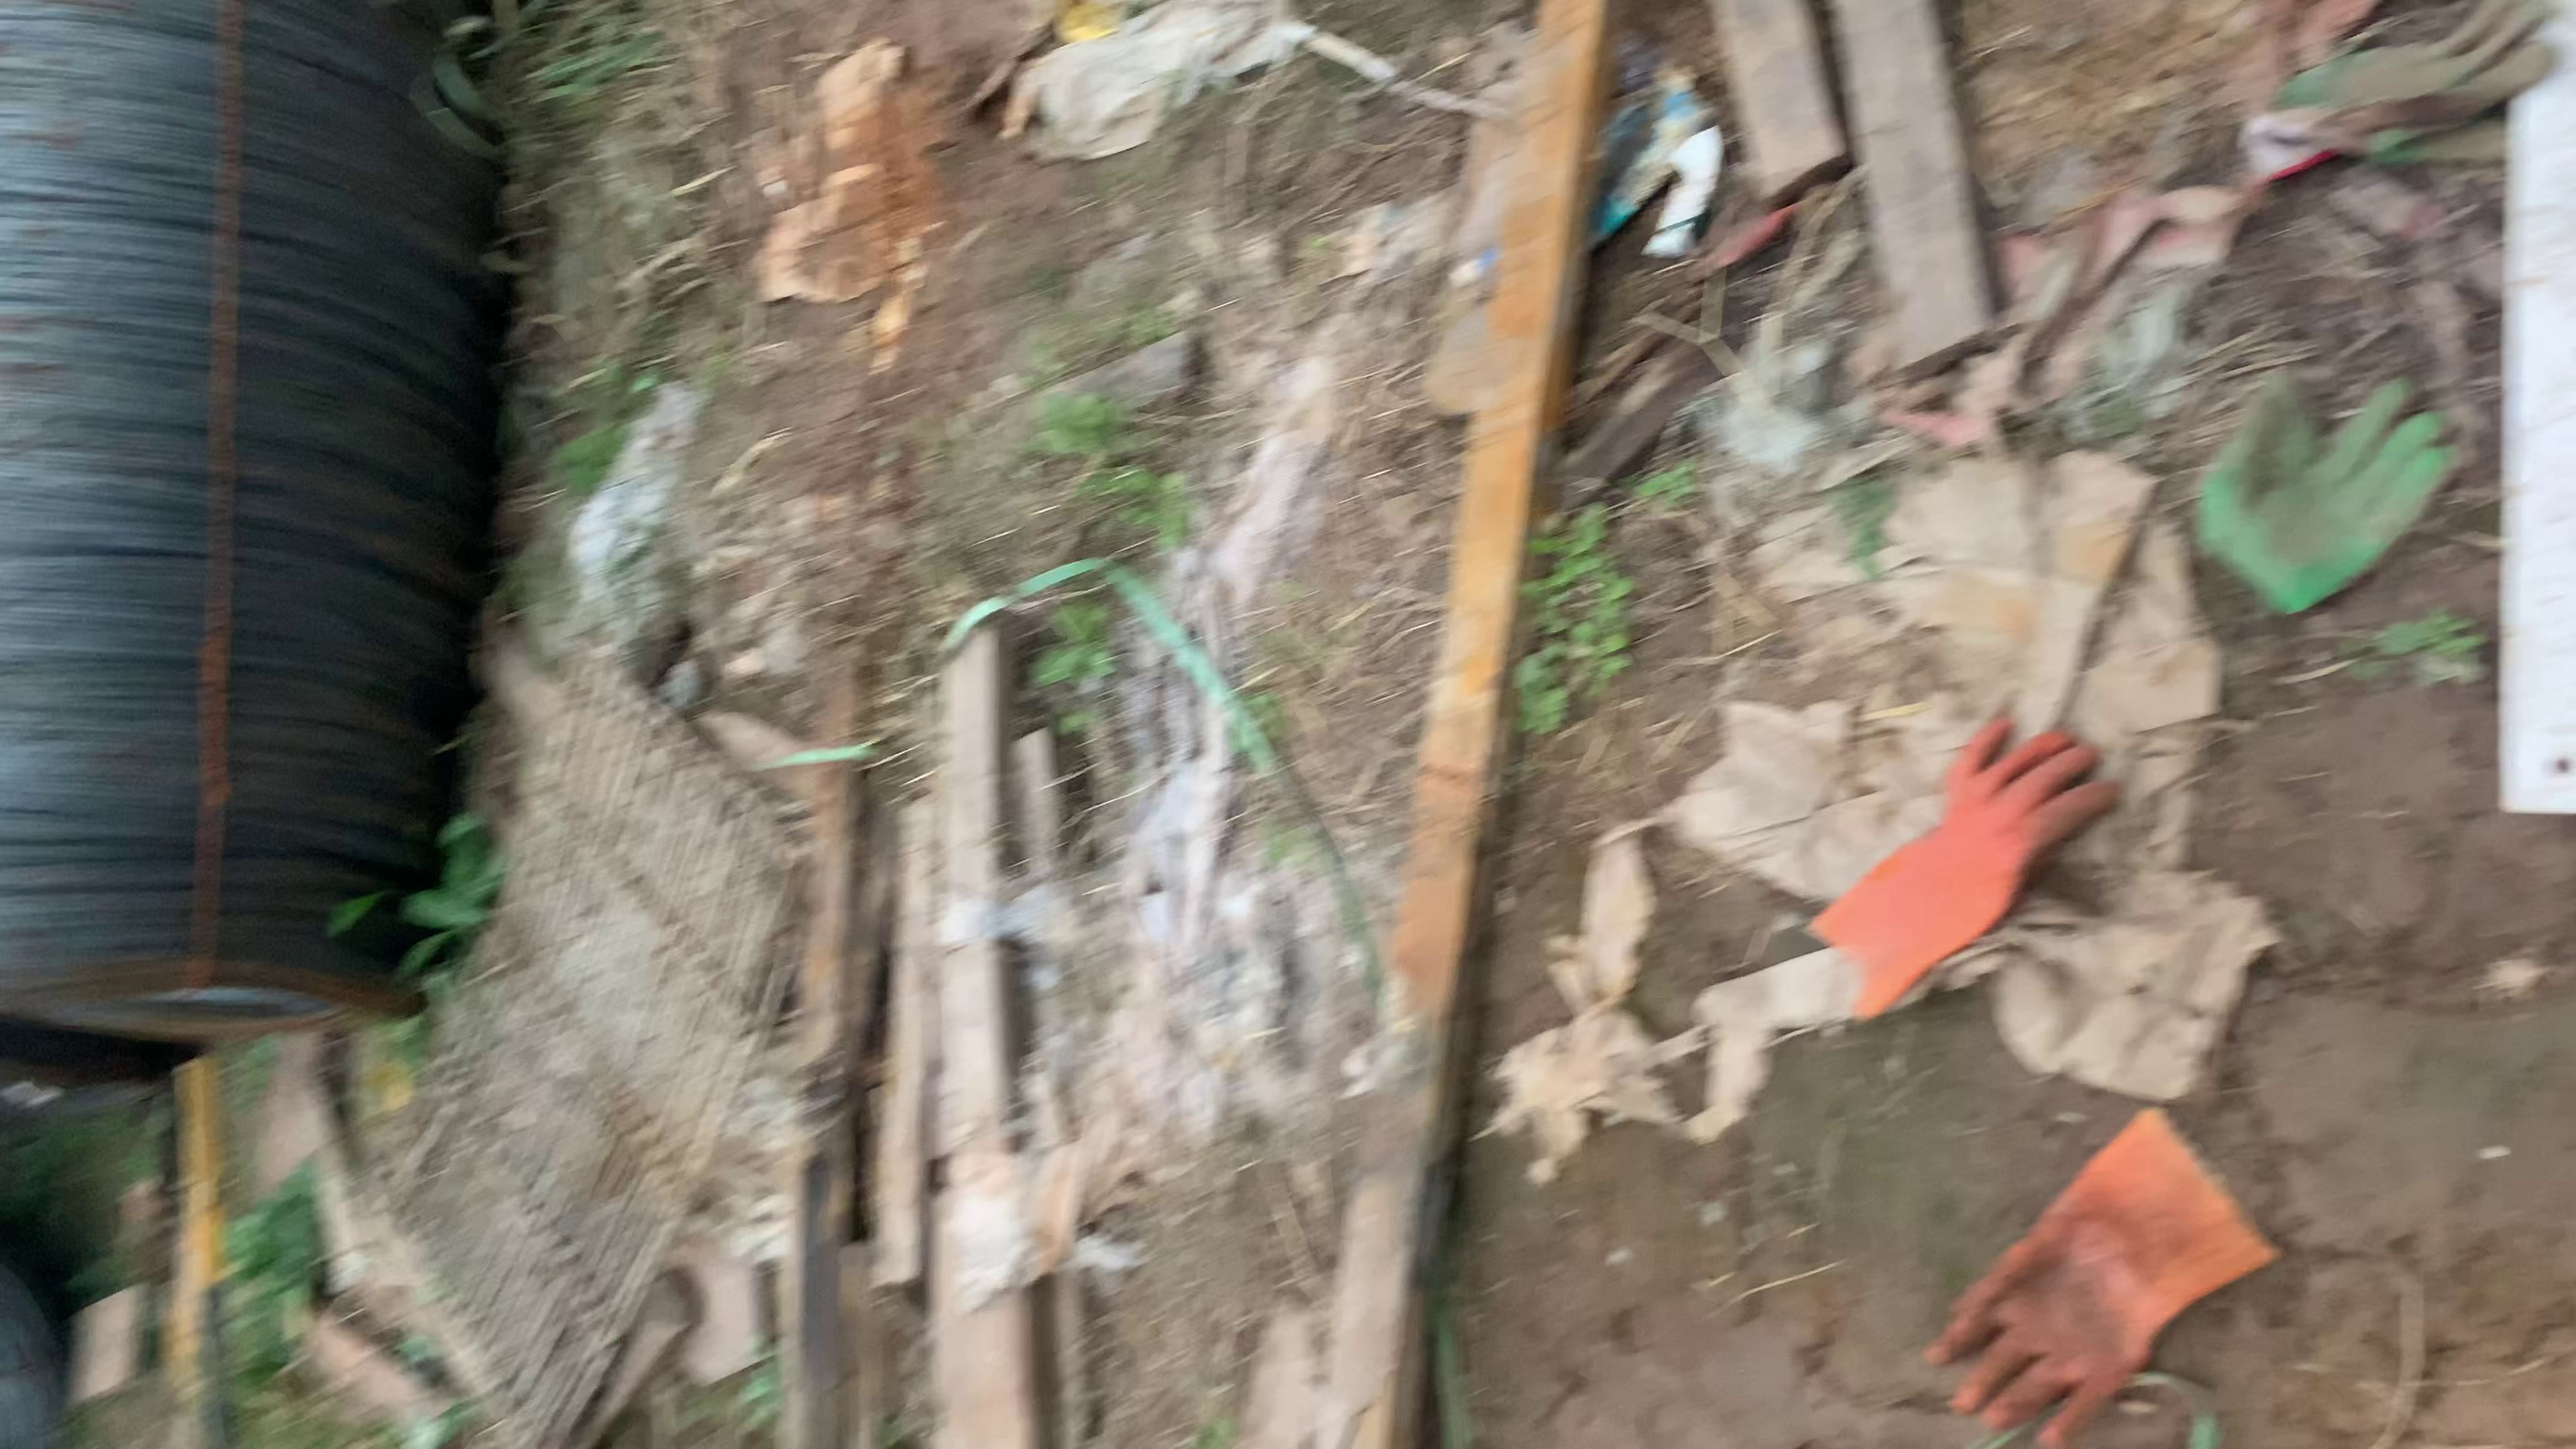coil: (0, 931, 416, 1092)
